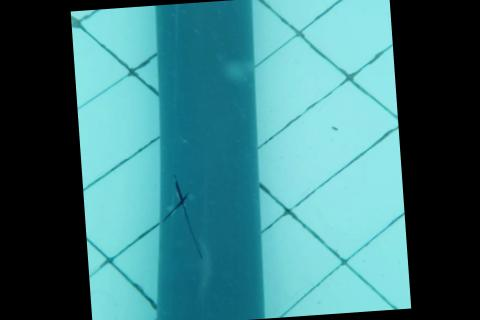keretakan: (157, 172, 205, 263)
